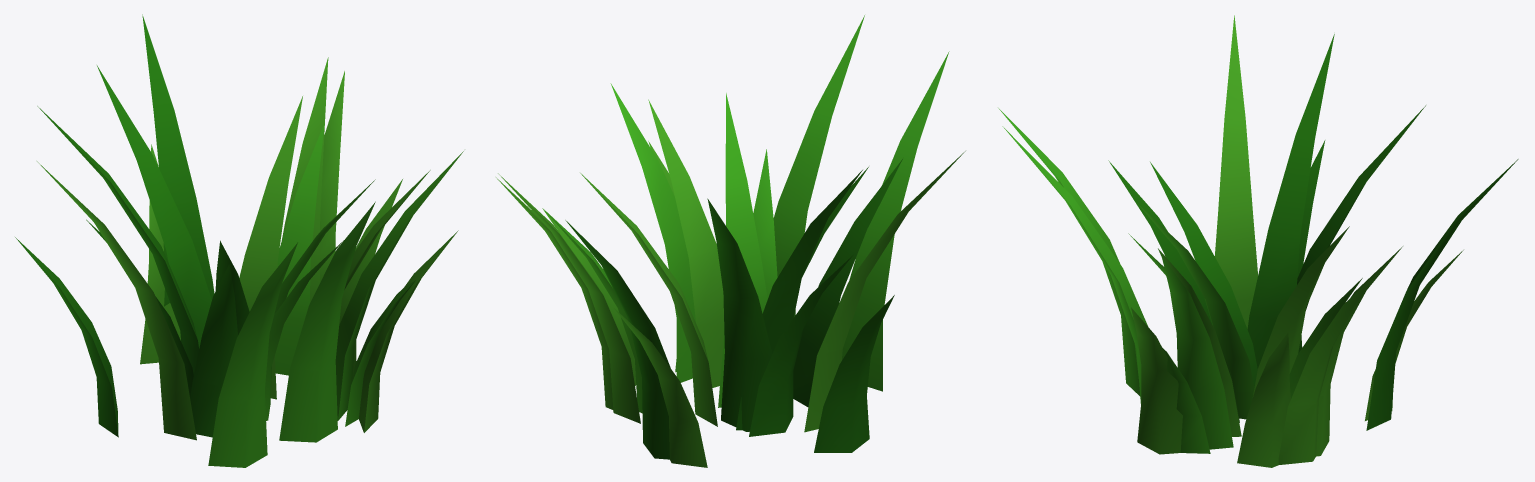
File: Grass_Tuft.fbx
3 views of the same model, side by side, from view 1: azimuth 30°, elevation 25°; view 2: azimuth 150°, elevation 25°; view 3: azimuth 270°, elevation 25° (orthographic). The views are drawn at different scales.
Visible parts, largest first — view 1: Grass_Tuft; view 2: Grass_Tuft; view 3: Grass_Tuft.
Boxes of the visible parts, x1,y1,x2,y2 form: Grass_Tuft: (15,14,463,467); Grass_Tuft: (496,15,965,467); Grass_Tuft: (998,15,1518,467).
Bounding box in the file's own units: 0.481 × 0.3612 × 0.5683.
